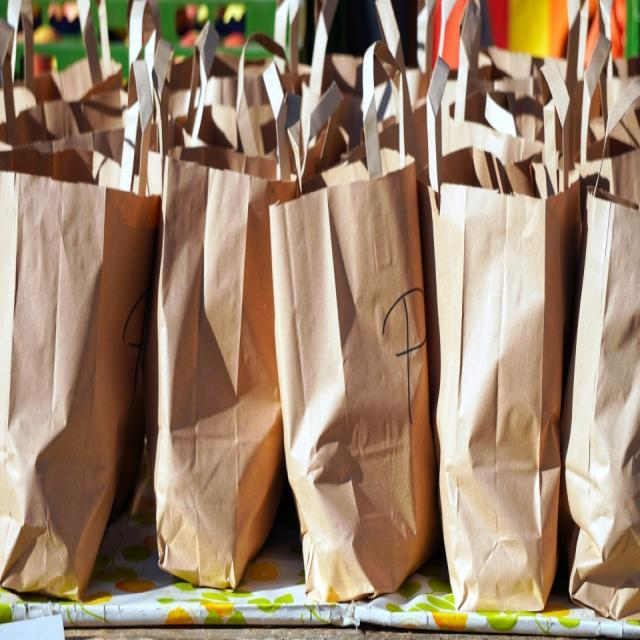paper bag: (270, 53, 435, 593), (434, 66, 567, 604), (5, 145, 146, 593), (166, 138, 272, 567), (574, 181, 640, 610)
